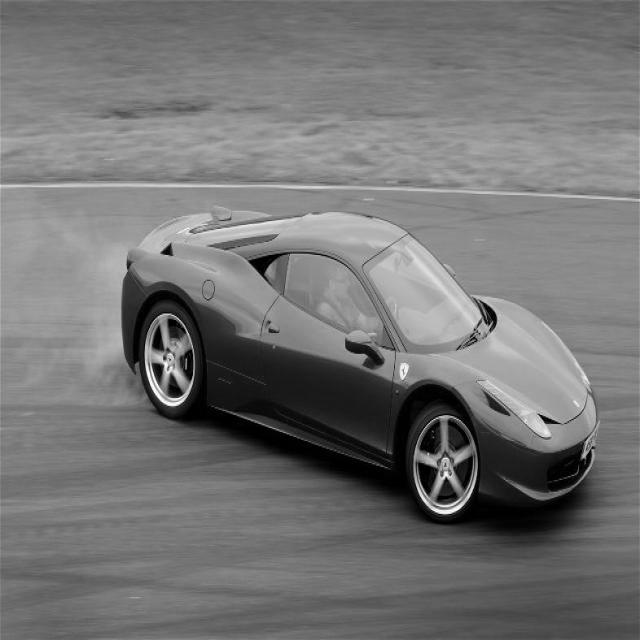Sedan: (119, 208, 601, 525)
